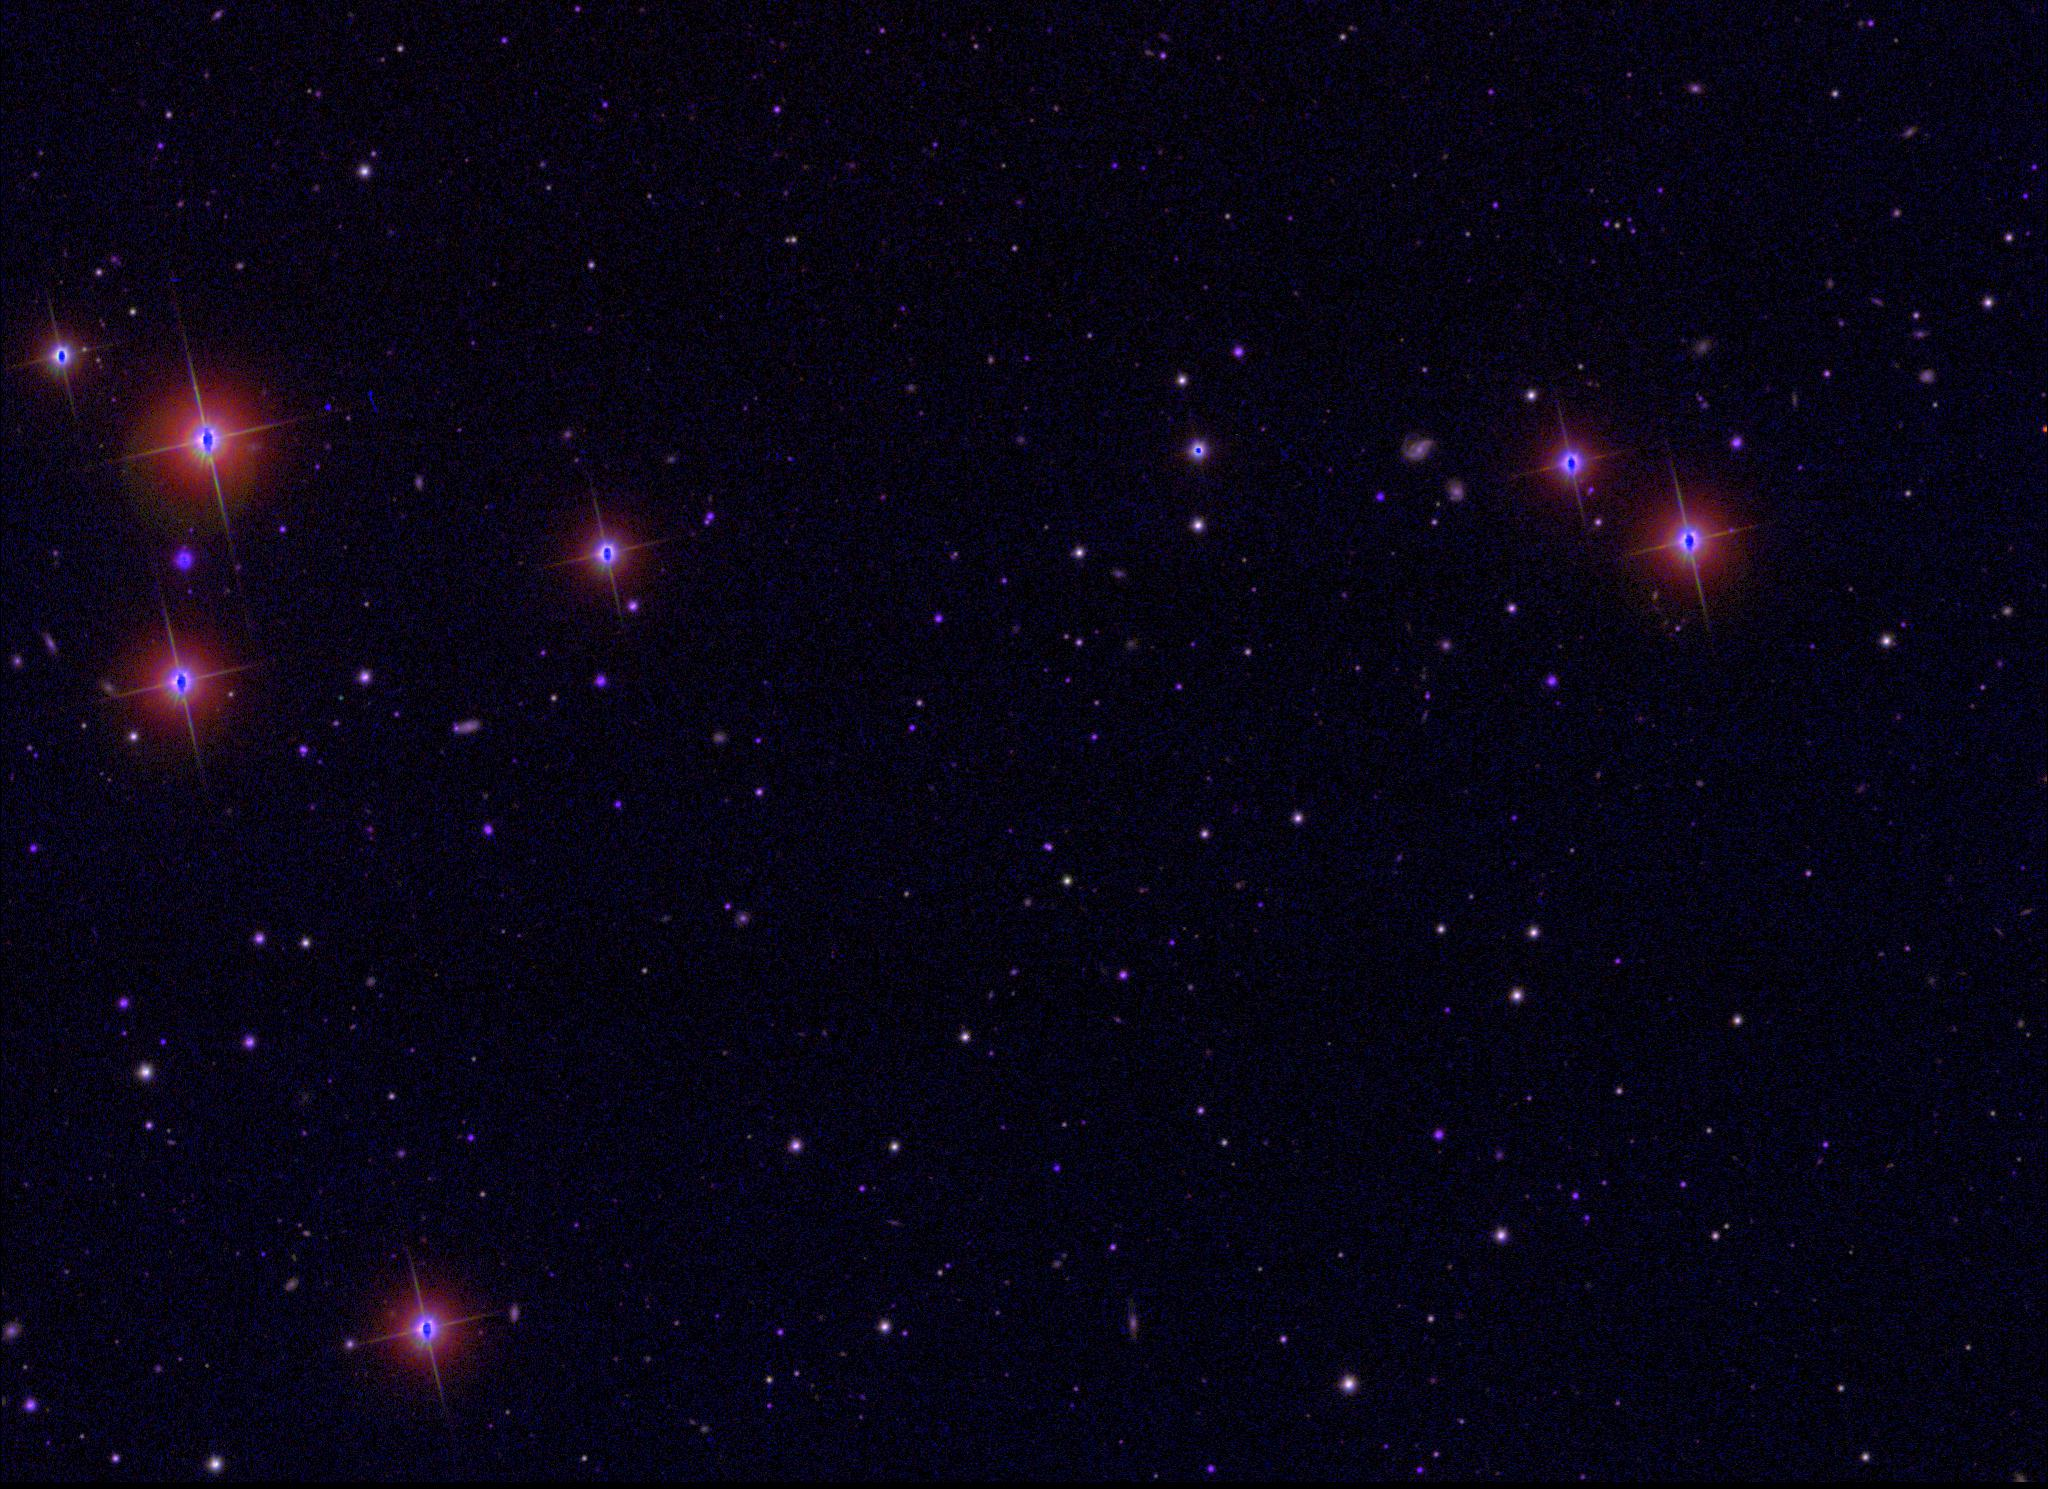L: (323, 398, 337, 412)
